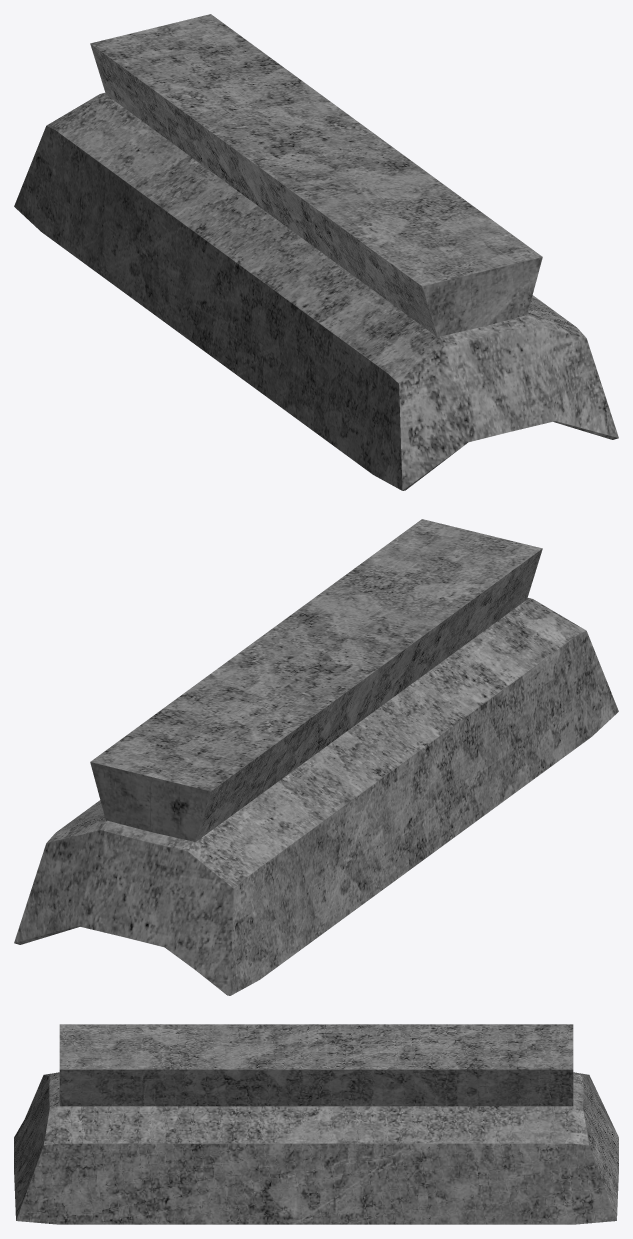
Rendered from ceiling_lamp.fbx.
3 views of the same model, one above another, from view 1: azimuth 30°, elevation 25°; view 2: azimuth 150°, elevation 25°; view 3: azimuth 270°, elevation 25° (orthographic). The views are drawn at different scales.
Parts seen in each view (by area): view 1: ceiling_lamp.002; view 2: ceiling_lamp.002; view 3: ceiling_lamp.002.
Part boxes in pixels (bbox=[...]): ceiling_lamp.002: bbox=[14, 14, 618, 490]; ceiling_lamp.002: bbox=[14, 519, 618, 995]; ceiling_lamp.002: bbox=[14, 1024, 618, 1224].
Bounding box in the file's own units: 19.02 × 14.74 × 58.91.
